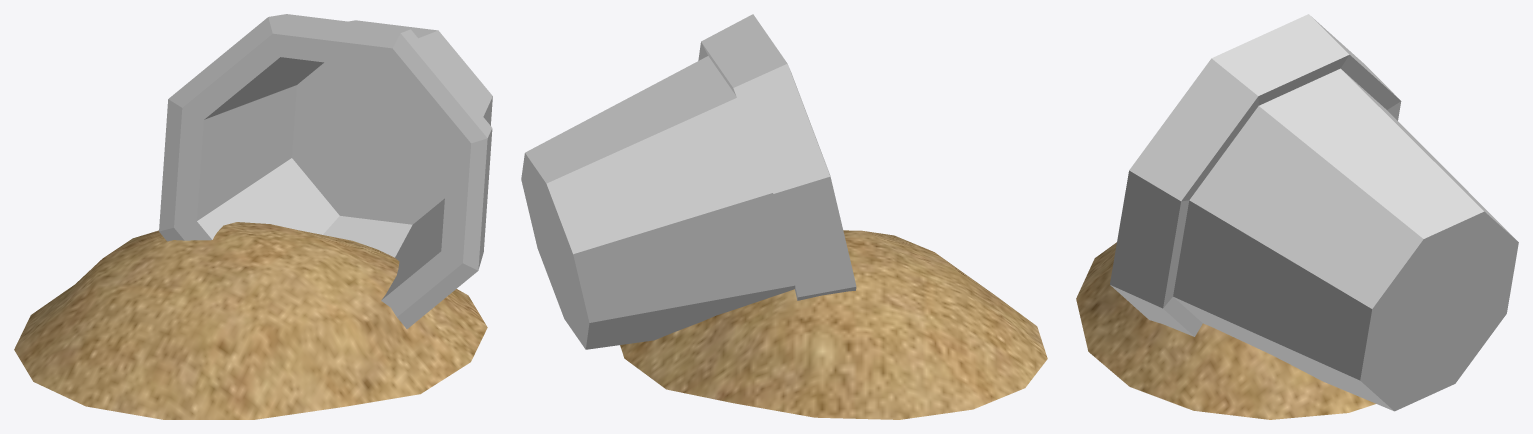
Rendered from sss.FBX.
The picture shows the model from 3 angles, left to right: view 1: azimuth 30°, elevation 25°; view 2: azimuth 150°, elevation 25°; view 3: azimuth 270°, elevation 25°; orthographic projection. The views are drawn at different scales.
Parts seen in each view (by area): view 1: Cylinder005, Sphere005; view 2: Cylinder005, Sphere005; view 3: Cylinder005, Sphere005.
Part boxes in pixels (x1,y1,x2,y2): Cylinder005: (159, 14, 492, 328); Sphere005: (14, 222, 487, 419); Cylinder005: (521, 14, 856, 349); Sphere005: (620, 230, 1047, 419); Cylinder005: (1110, 14, 1518, 411); Sphere005: (1076, 242, 1375, 419).
Size of the model in its own units: 123 by 72.31 by 91.97.
